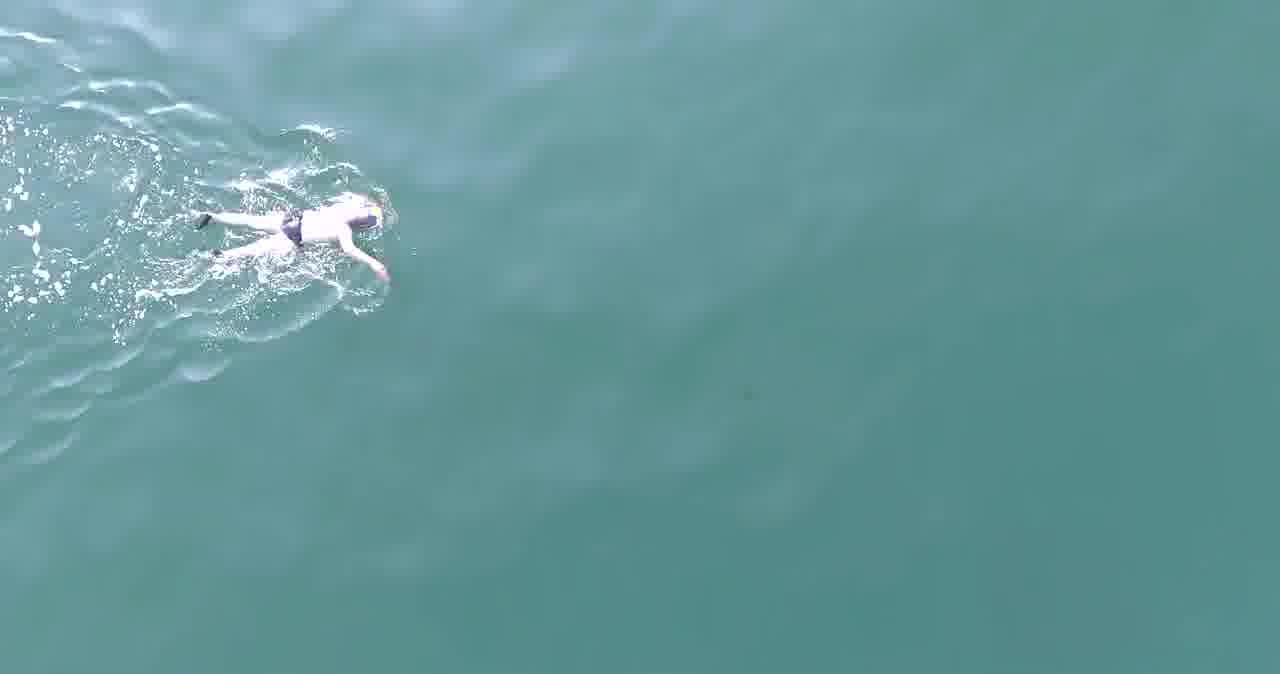swimmer: (178, 190, 396, 285)
